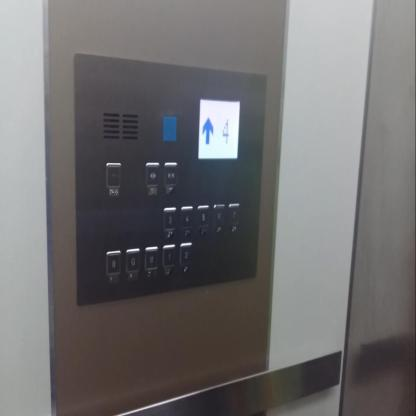1: (162, 244, 175, 267)
2: (179, 242, 192, 264)
3: (162, 205, 177, 231)
4: (180, 204, 193, 229)
5: (196, 204, 209, 227)
6: (213, 202, 225, 226)
7: (228, 202, 240, 225)
B: (106, 250, 121, 276)
G: (126, 249, 140, 272)
M: (144, 246, 158, 270)
blur: (162, 115, 176, 142), (106, 162, 120, 188)
close: (163, 161, 177, 186)
led: (197, 98, 241, 158)
open: (145, 161, 160, 185)
